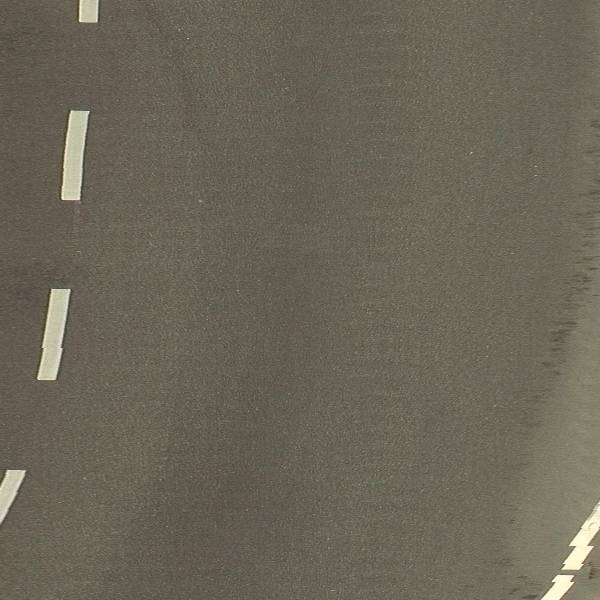road_damage: (542, 166, 600, 392), (142, 1, 203, 132)
